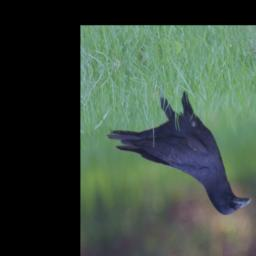Crow: (101, 64, 252, 246)
